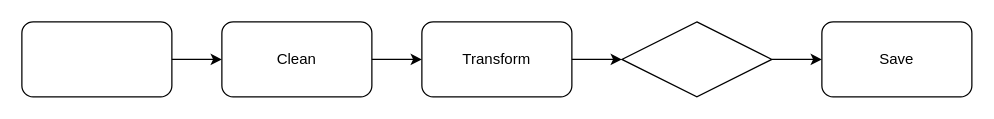
The diagram is 994 pixels wide and 119 high, and some of its shapes have lost their labels. The shapes that lost their labels are listed below. From the top down, each one's centre as x and y in pixels, then its label:
At point (96, 59): "Input".
At point (696, 59): "Check".
